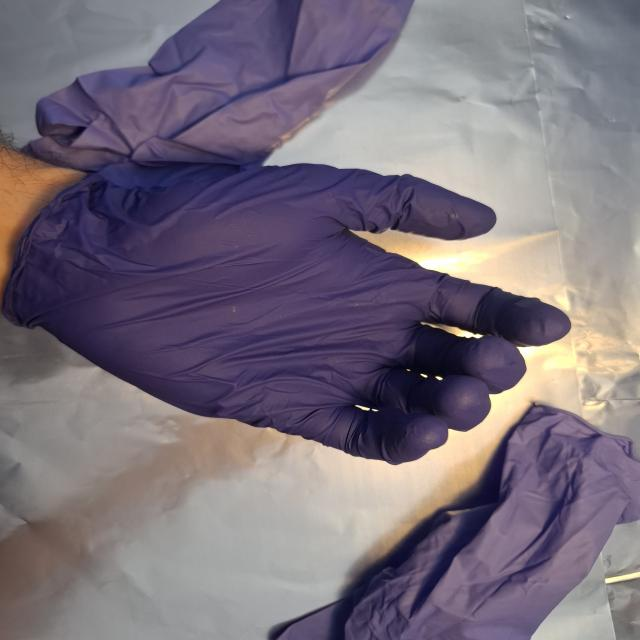glove_on: (10, 152, 576, 471)
